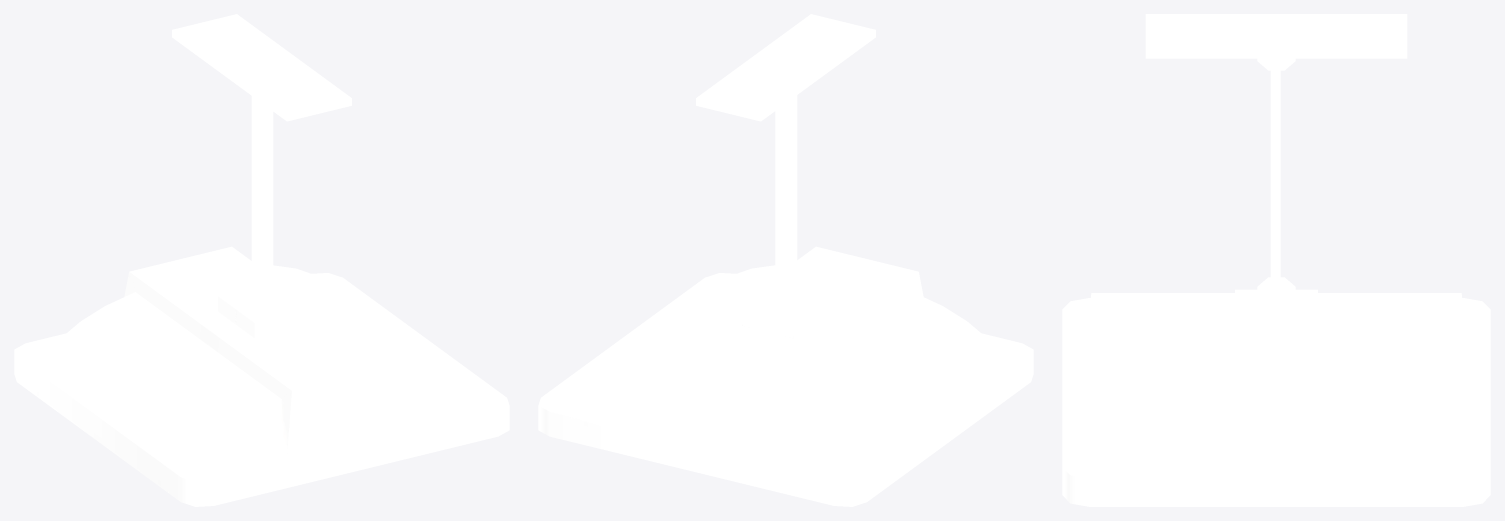
Rendered from bw-ceiling-lamp.lod0.glb.
The picture shows the model from 3 angles, left to right: view 1: azimuth 30°, elevation 25°; view 2: azimuth 150°, elevation 25°; view 3: azimuth 270°, elevation 25°; orthographic projection. The views are drawn at different scales.
Parts seen in each view (by area): view 1: Lamp_Base_Lamp_0; view 2: Lamp_Base_Lamp_0; view 3: Lamp_Base_Lamp_0.
Boxes of the visible parts, <box> form: Lamp_Base_Lamp_0: <box>14,14,509,506</box>; Lamp_Base_Lamp_0: <box>538,14,1033,506</box>; Lamp_Base_Lamp_0: <box>1062,14,1490,506</box>.
Size of the model in its own units: 0.45 by 0.446 by 0.45.
1 material, 1 textured.
